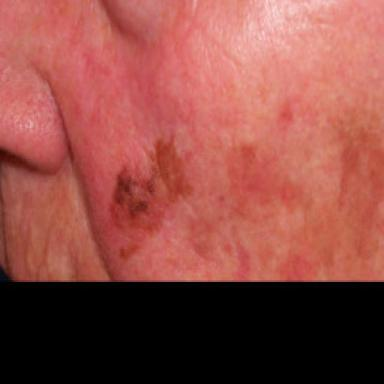Melanoma: (109, 137, 192, 258)
